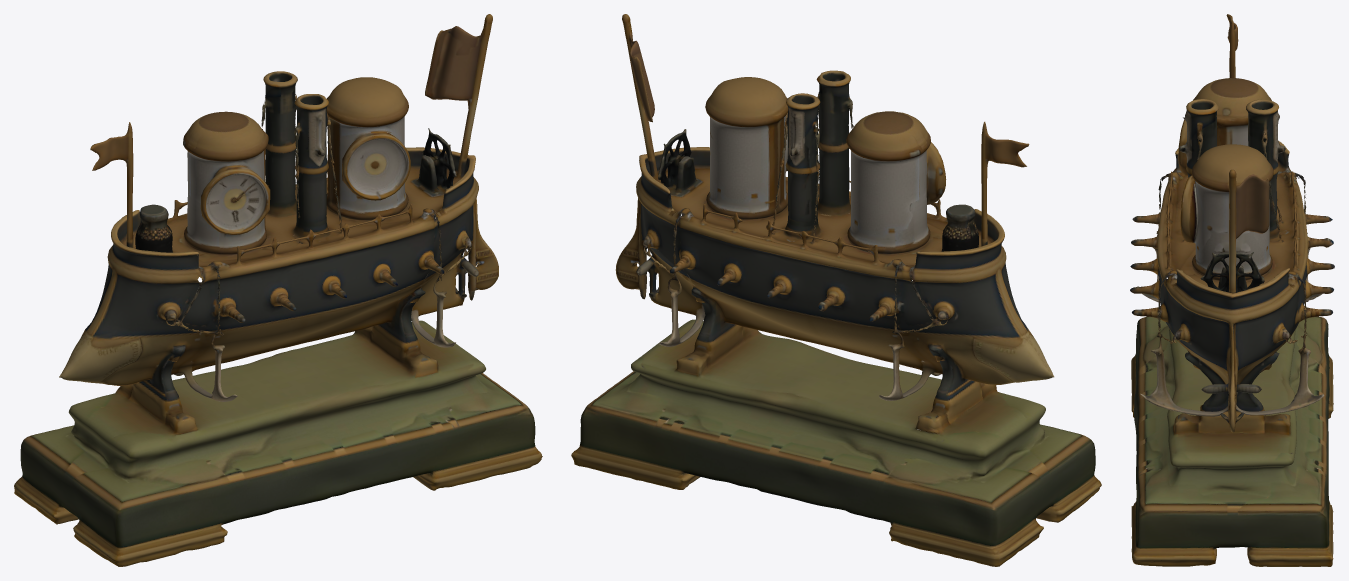
The model's file is 汽船式风雨表.glb.
3 renders of one model, left to right at view 1: azimuth 30°, elevation 25°; view 2: azimuth 150°, elevation 25°; view 3: azimuth 270°, elevation 25°, orthographic. The views are drawn at different scales.
Visible parts, largest first — view 1: tripo_node_8743cd30; view 2: tripo_node_8743cd30; view 3: tripo_node_8743cd30.
Part boxes in pixels (x1=…): tripo_node_8743cd30: x1=14, y1=14, x2=542, y2=566; tripo_node_8743cd30: x1=571, y1=14, x2=1101, y2=566; tripo_node_8743cd30: x1=1130, y1=14, x2=1334, y2=566.
Size of the model in its own units: 96.61 by 86.94 by 40.59.
1 material, 1 textured.
